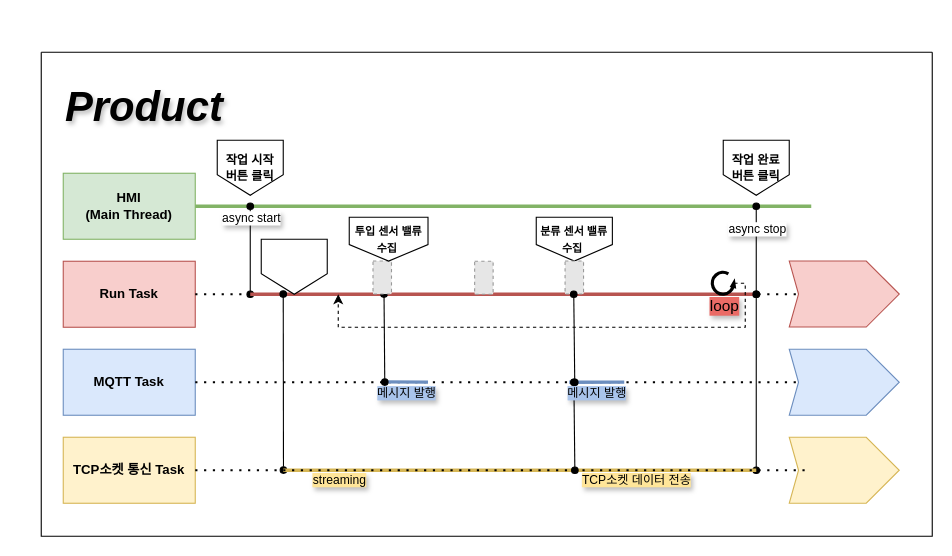
Image size: 952x556. Some labels were removed from this diagram. Grey dashed boxes stand in for pictures. The shapes that lost their labels are listed below. From the top down, each one's box as (x1, y1, x2, y2) in pixels, then its label:
(260, 238, 327, 294): 공정 초기화 통신 준비
(788, 260, 899, 327): PLC 제어 & 데이터 수집
(788, 348, 899, 415): 실시간 모니터링 데이터 SCDADA 전송
(788, 436, 899, 503): 검사 데이터 DB 저장
